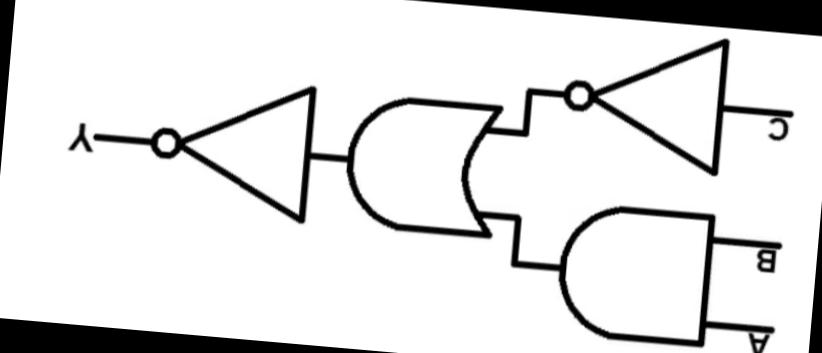and: (544, 192, 727, 353)
not: (553, 21, 735, 184), (142, 70, 324, 228)
or: (331, 76, 506, 251)
